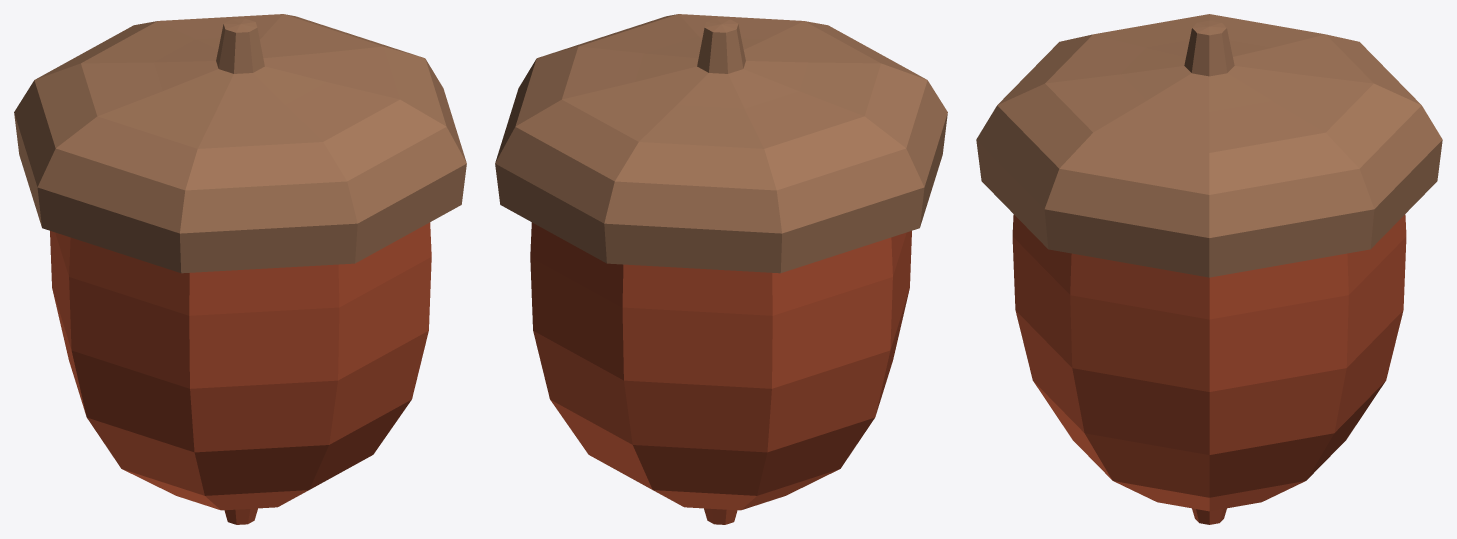
The model's file is e479a6d8-52a8-49fe-9013-158902e94eec.glb.
3 views of the same model, side by side, from view 1: azimuth 30°, elevation 25°; view 2: azimuth 150°, elevation 25°; view 3: azimuth 270°, elevation 25° (orthographic).
Parts seen in each view (by area): view 1: Node; view 2: Node; view 3: Node.
Part boxes in pixels (bbox=[...]): Node: bbox=[14, 14, 466, 524]; Node: bbox=[495, 14, 947, 524]; Node: bbox=[976, 14, 1442, 524].
Bounding box in the file's own units: 2.41 × 2.82 × 2.41.
